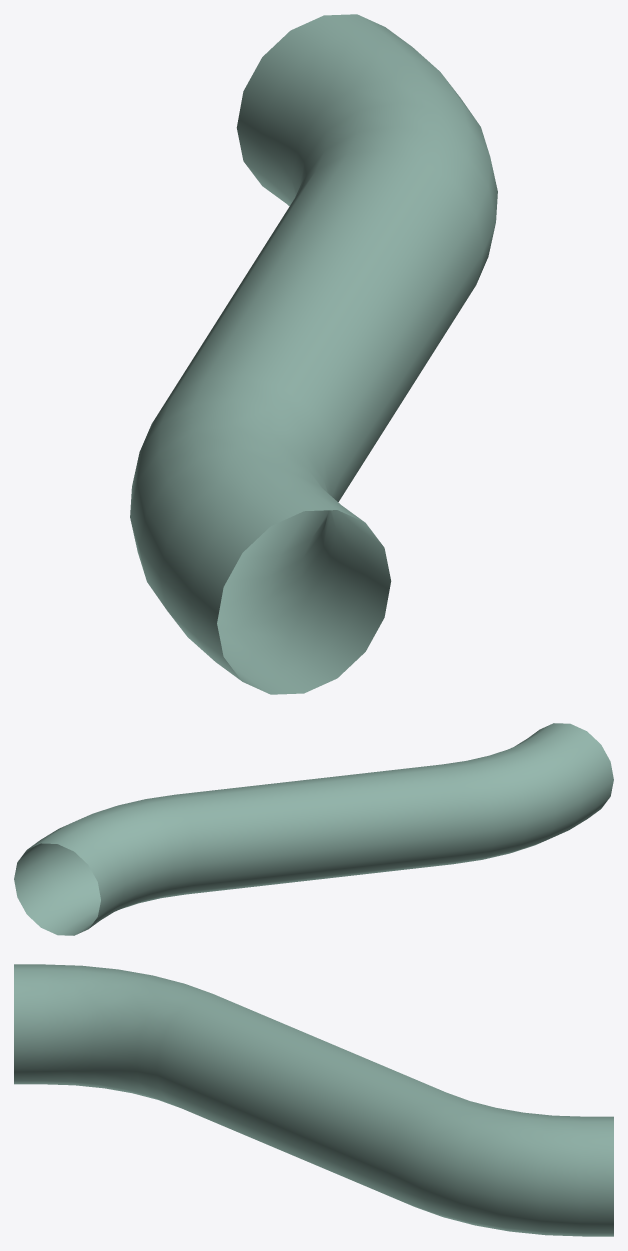
Rendered from PipeLarge_BentSpecial_07.fbx.
3 views of the same model, one above another, from view 1: azimuth 30°, elevation 25°; view 2: azimuth 150°, elevation 25°; view 3: azimuth 270°, elevation 25° (orthographic). The views are drawn at different scales.
Parts seen in each view (by area): view 1: PipeLarge_BentSpecial_07.001; view 2: PipeLarge_BentSpecial_07.001; view 3: PipeLarge_BentSpecial_07.001.
Part boxes in pixels (x1=…): PipeLarge_BentSpecial_07.001: x1=130, y1=14, x2=497, y2=694; PipeLarge_BentSpecial_07.001: x1=14, y1=723, x2=613, y2=935; PipeLarge_BentSpecial_07.001: x1=14, y1=964, x2=613, y2=1236.
Size of the model in its own units: 0.8 by 0.2 by 1.
